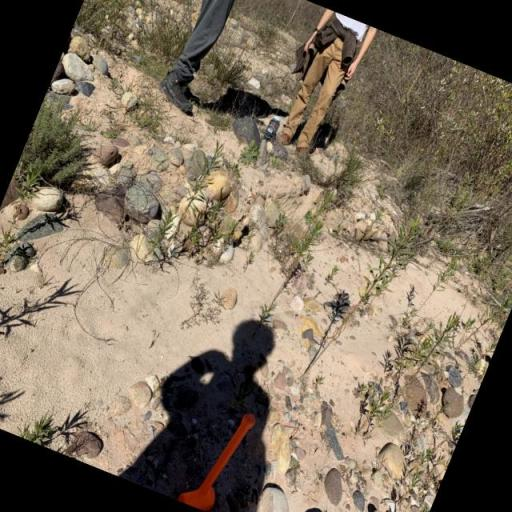bottle: (260, 112, 283, 144)
mallet: (174, 394, 260, 512)
